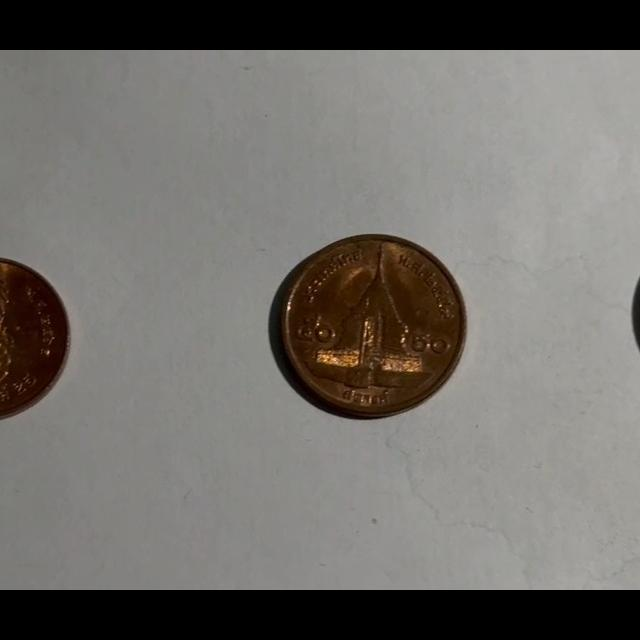25-satang: (0, 258, 69, 421)
50-satang: (274, 236, 464, 416)
